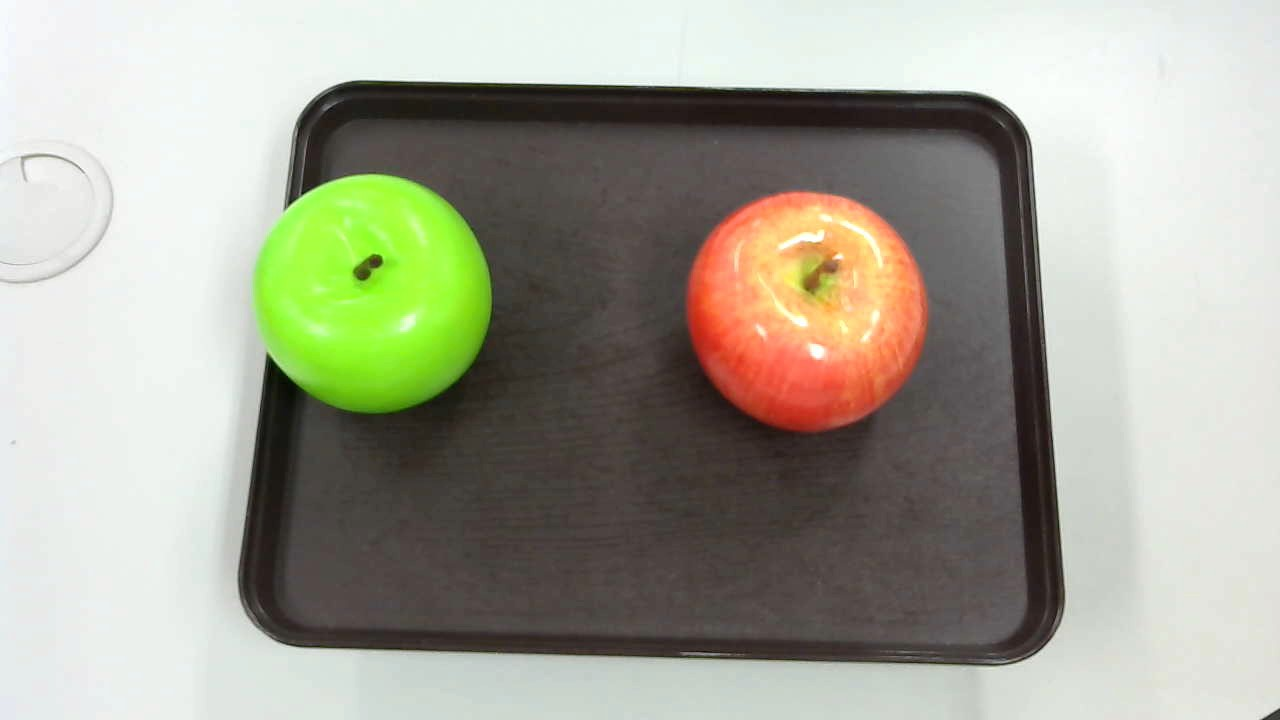green apple: (249, 170, 494, 411)
red apple: (685, 188, 929, 430)
